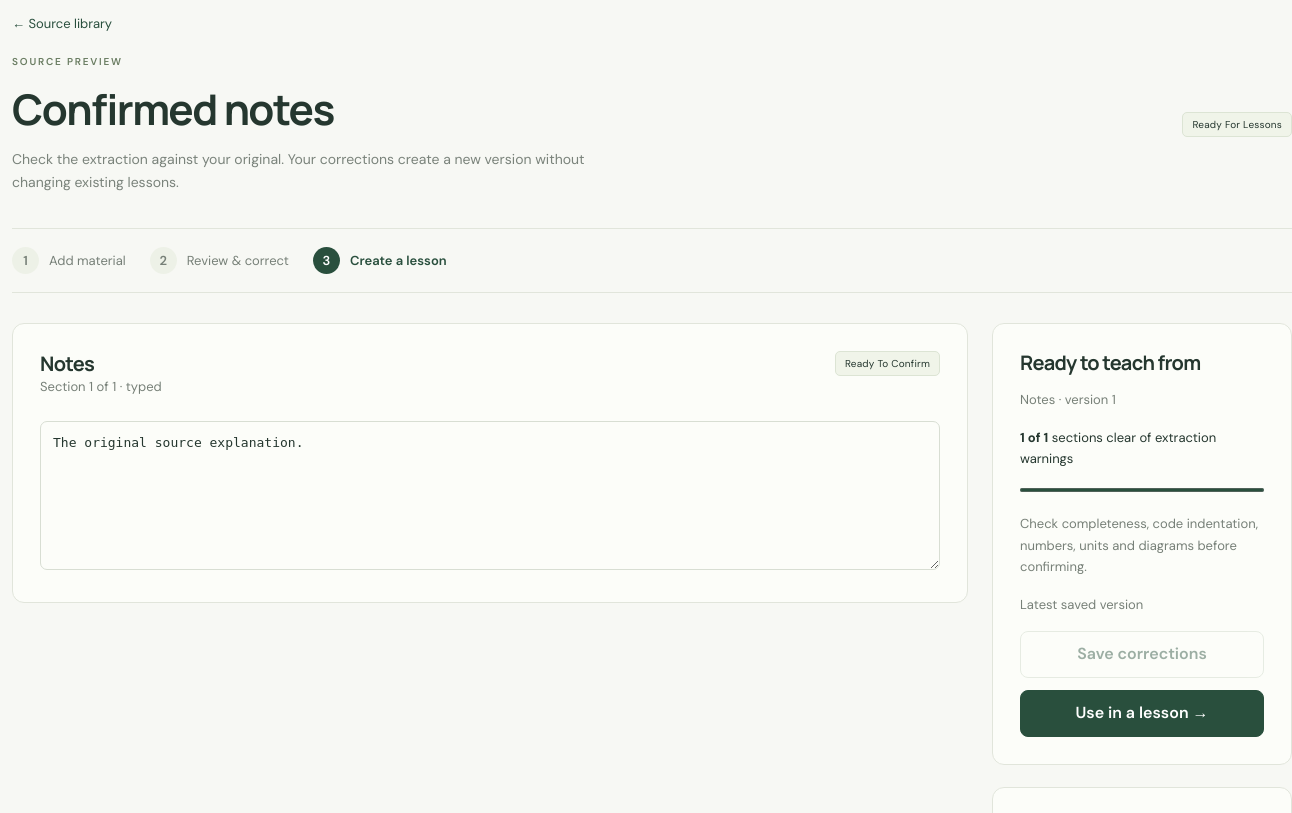
requires edited confirmed material to be saved and confirmed before creating a lesson
This screenshot has width=1292, height=813.
Expected: the link "Use in a lesson →" is shown, [1020, 690, 1264, 737]
Step 1. Replace the text in the text box named "Extracted text for Notes" with "Corrected source explanation." → (490, 495), box [40, 421, 940, 570]
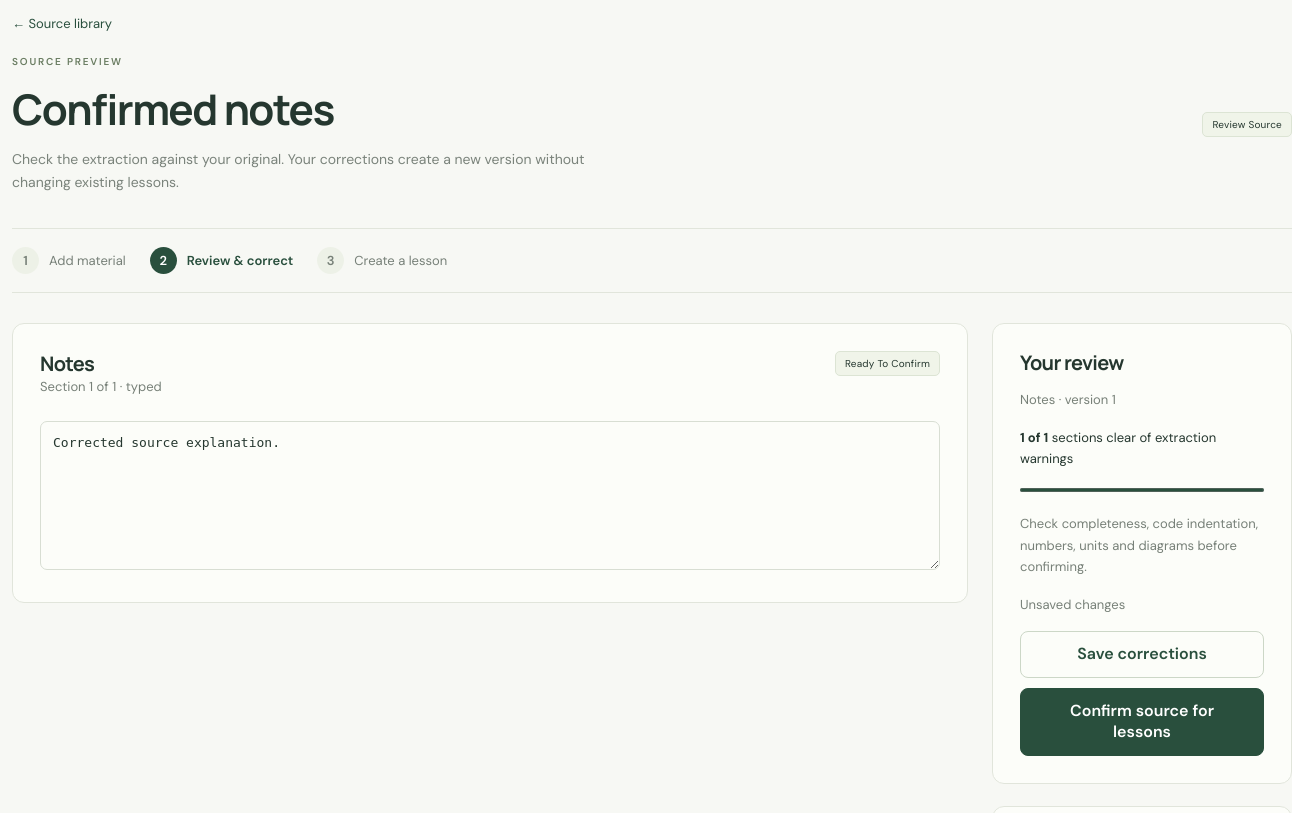
Expected: the link "Use in a lesson" is gone
Expected: the text "Unsaved changes" is shown, [1020, 596, 1125, 613]
Step 2. Click the button "Confirm source for lessons" → (1142, 722), box [1020, 688, 1264, 756]
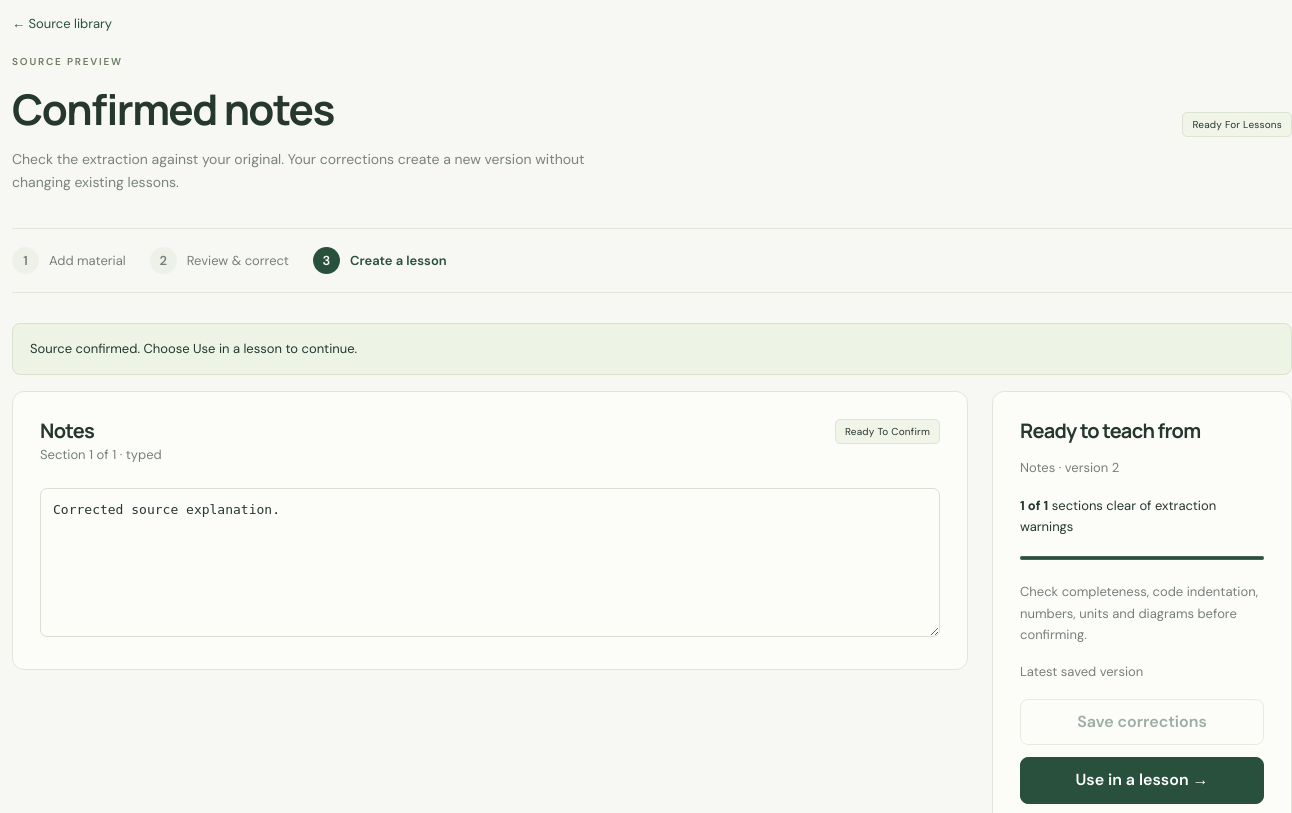
Expected: the link "Use in a lesson →" is shown, [1020, 758, 1264, 804]
